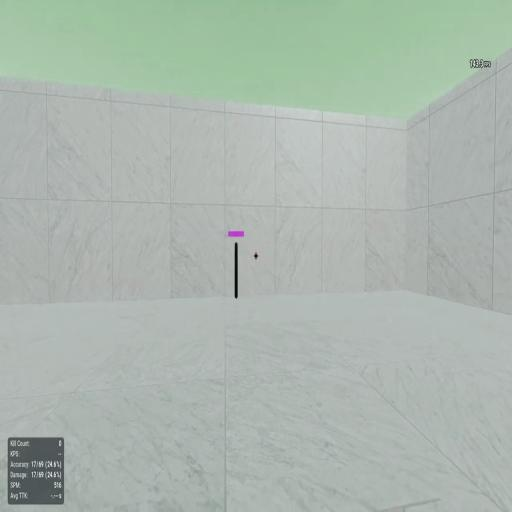Crosshair: (254, 252, 258, 260)
Target: (234, 244, 238, 298)
